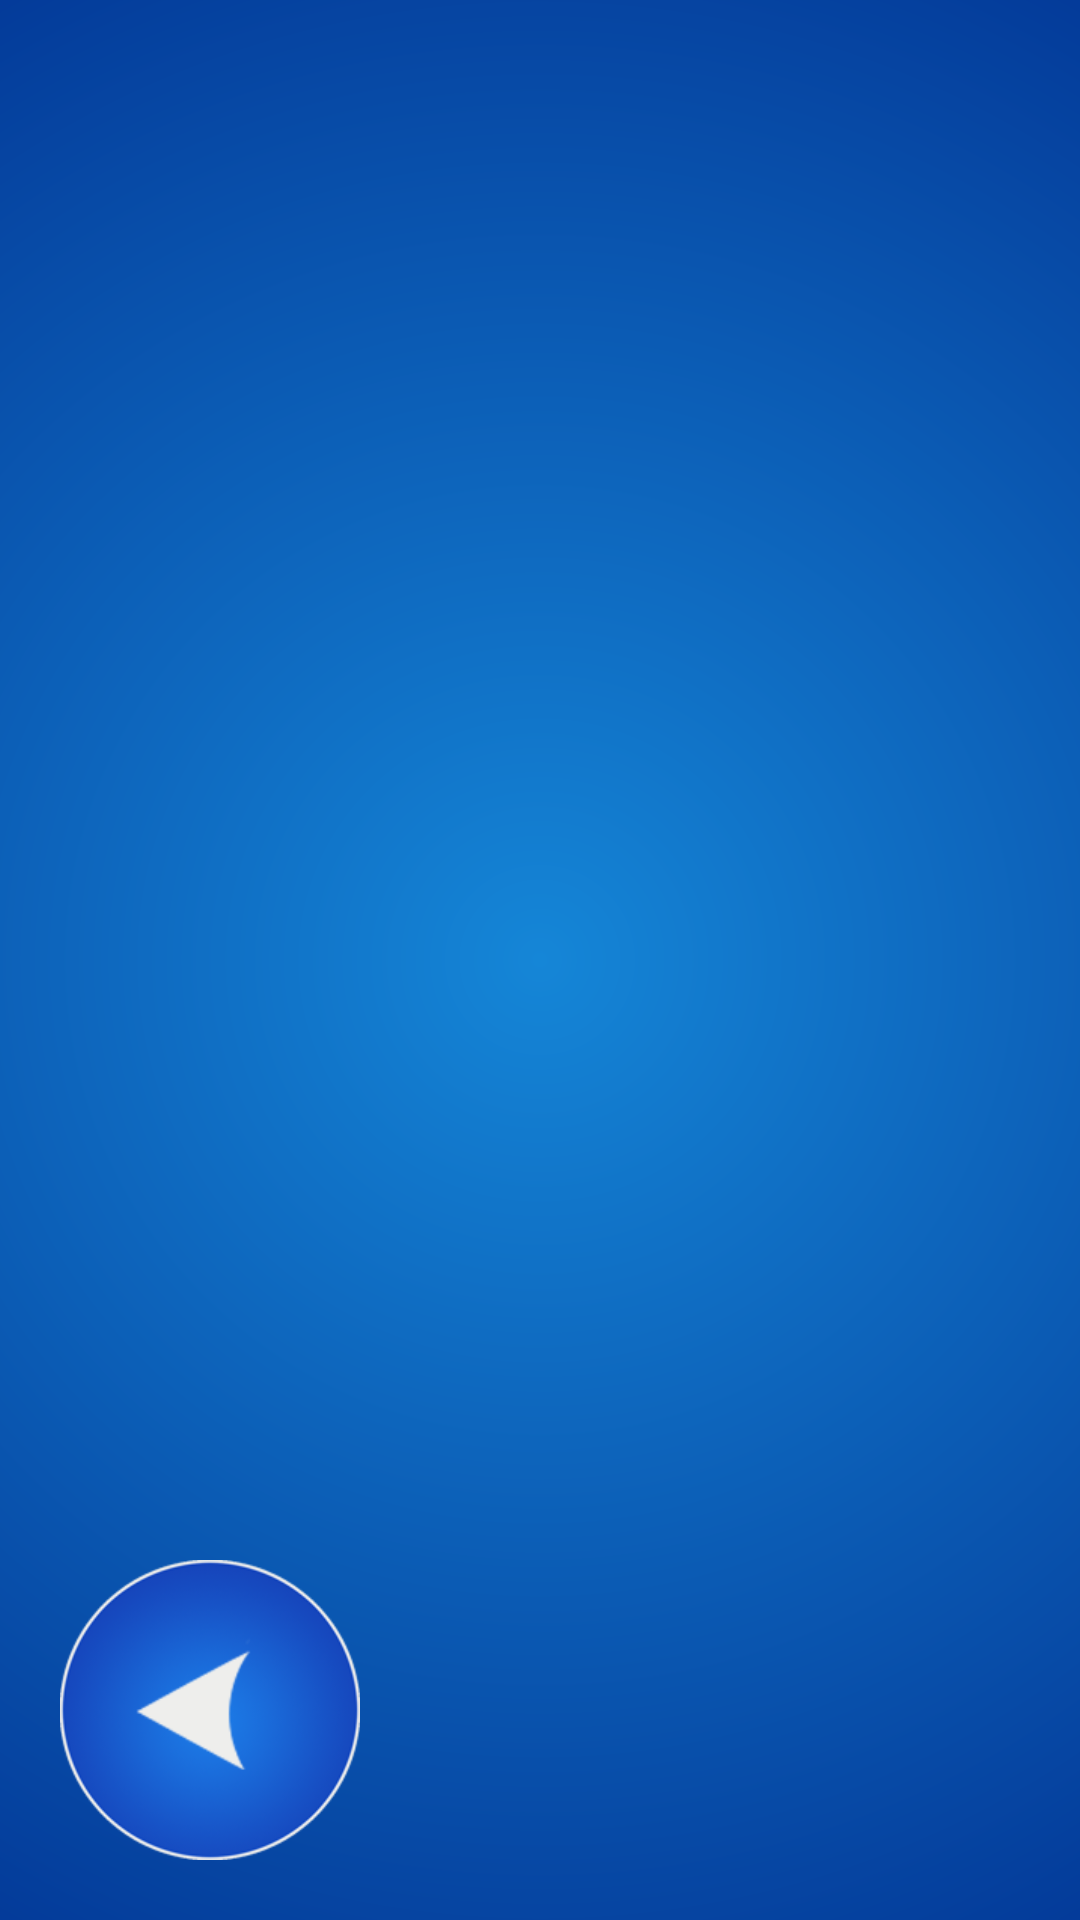

Point at icon controls on the screen. Image size 1080×1920, points as (x,y).
back: (210,1710)
